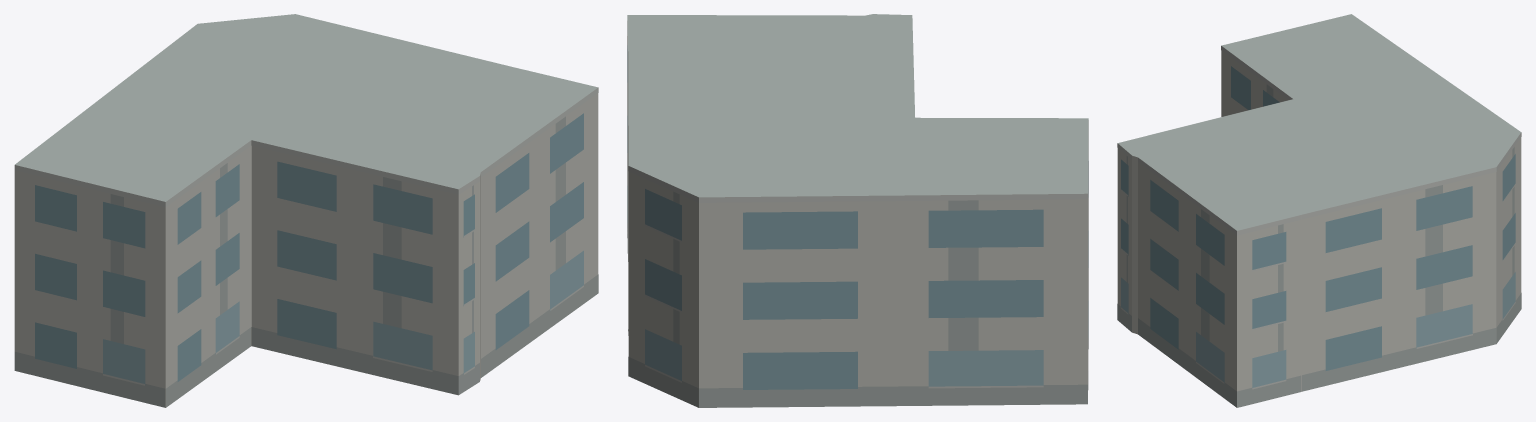
Rendered from survey-upis-32528235.glb.
The picture shows the model from 3 angles, left to right: view 1: azimuth 30°, elevation 25°; view 2: azimuth 150°, elevation 25°; view 3: azimuth 270°, elevation 25°; orthographic projection. The views are drawn at different scales.
Visible parts, largest first — view 1: survey-upis-32528235.tmp; view 2: survey-upis-32528235.tmp; view 3: survey-upis-32528235.tmp.
Part boxes in pixels (bbox=[...]): survey-upis-32528235.tmp: bbox=[14, 14, 598, 407]; survey-upis-32528235.tmp: bbox=[627, 14, 1088, 407]; survey-upis-32528235.tmp: bbox=[1117, 14, 1521, 407].
Bounding box in the file's own units: 24.06 × 9.15 × 18.93.
